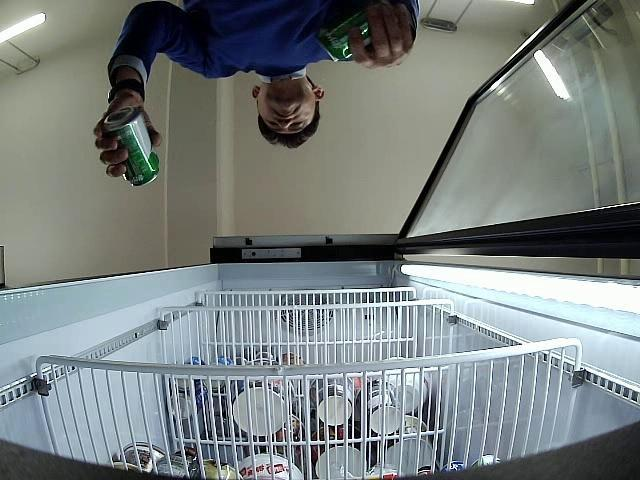12_chilsungCider: (102, 107, 160, 188), (315, 0, 391, 61)
